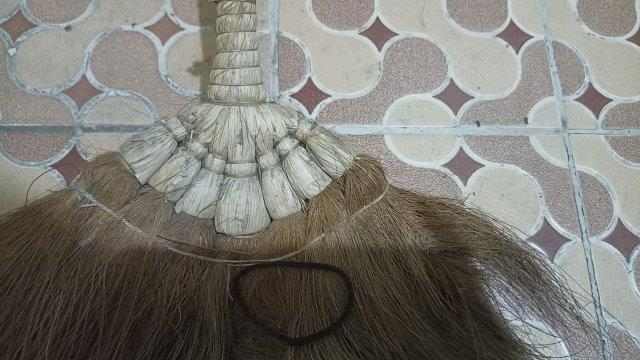karet: (233, 261, 353, 343)
